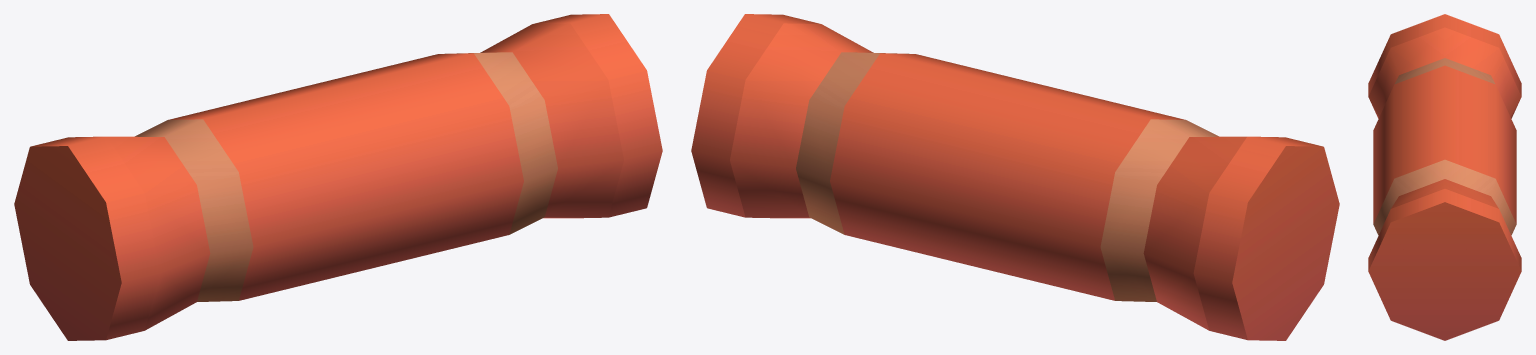
The model's file is kenney-survival-bedroll-packed.glb.
3 views of the same model, side by side, from view 1: azimuth 30°, elevation 25°; view 2: azimuth 150°, elevation 25°; view 3: azimuth 270°, elevation 25° (orthographic). The views are drawn at different scales.
Parts seen in each view (by area): view 1: bedroll-packed; view 2: bedroll-packed; view 3: bedroll-packed.
Boxes of the visible parts, x1,y1,x2,y2 form: bedroll-packed: [14, 14, 662, 340]; bedroll-packed: [691, 14, 1339, 340]; bedroll-packed: [1368, 14, 1521, 340].
Size of the model in its own units: 0.2604 by 0.0897 by 0.0897.
Materials: 1 (1 with a texture image).
